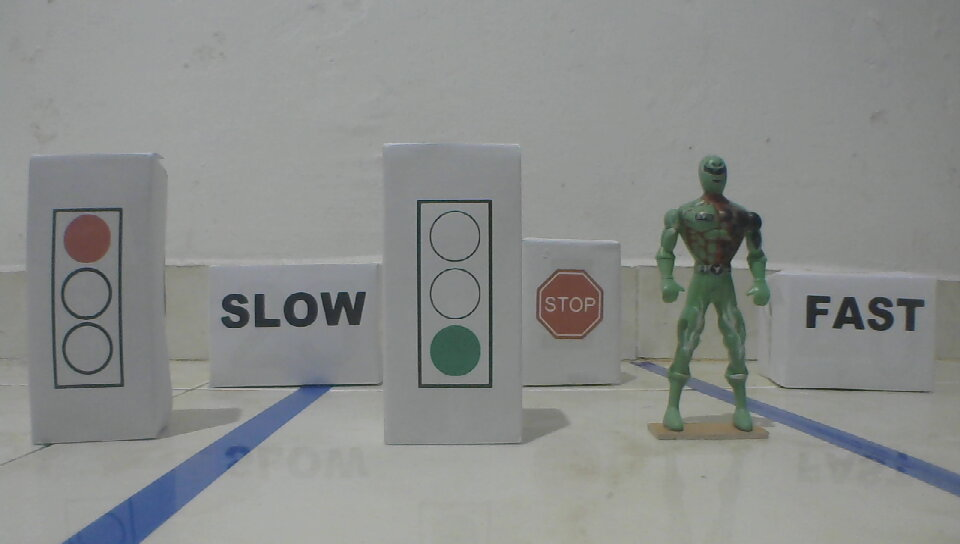Fast: (803, 292, 928, 336)
Green Traffic Light: (415, 197, 496, 390)
Person: (654, 151, 774, 438)
Red Traffic Light: (47, 207, 128, 392)
Slow: (220, 289, 370, 331)
Stop Sign: (533, 268, 606, 342)
